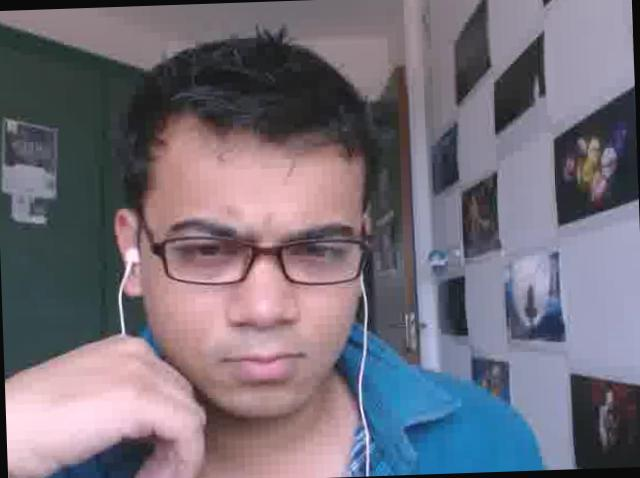bingung: (138, 133, 376, 428)
